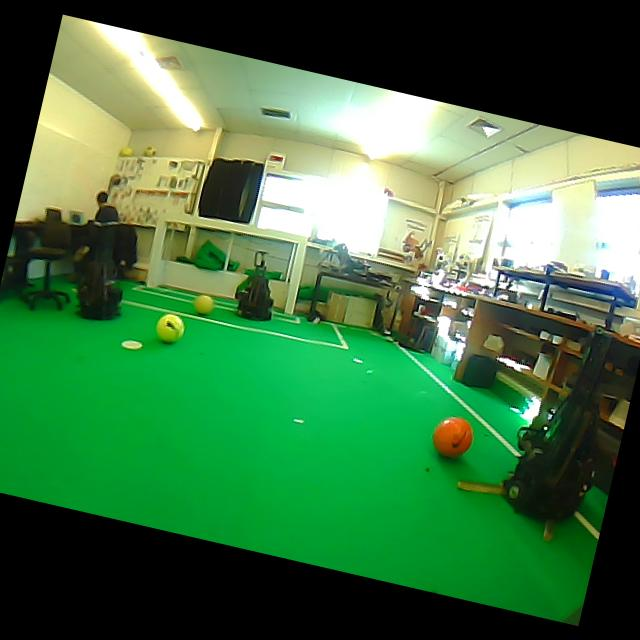ball: (432, 416, 472, 457), (155, 313, 184, 342), (194, 295, 213, 314), (143, 146, 155, 156), (119, 147, 132, 156)
goal: (283, 237, 306, 314), (145, 218, 168, 287)
robot: (503, 331, 611, 521), (77, 225, 123, 320), (236, 250, 272, 320)
